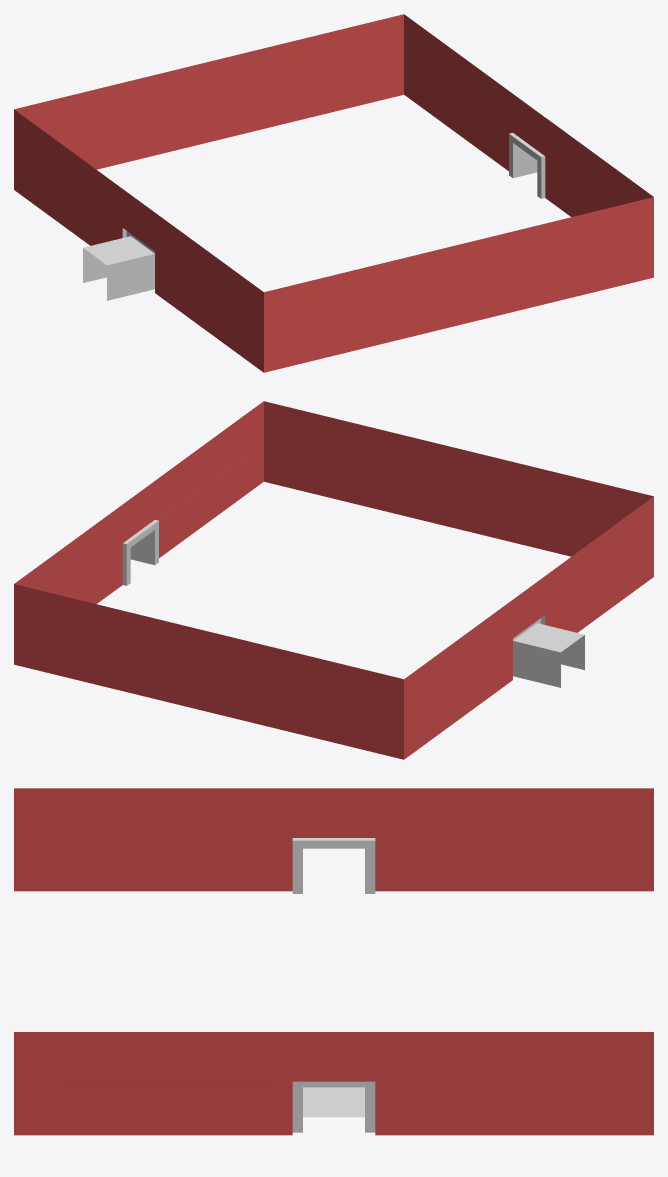
File: Room_01.glb
3 renders of one model, top to bottom at view 1: azimuth 30°, elevation 25°; view 2: azimuth 150°, elevation 25°; view 3: azimuth 270°, elevation 25°, orthographic. The views are drawn at different scales.
Parts seen in each view (by area): view 1: Object; view 2: Object; view 3: Object.
Part boxes in pixels (box(x1,y1,x2,y2)): Object: box(14, 14, 653, 372); Object: box(14, 401, 653, 759); Object: box(14, 788, 653, 1135).
Size of the model in its own units: 101 by 16.21 by 91.12.
